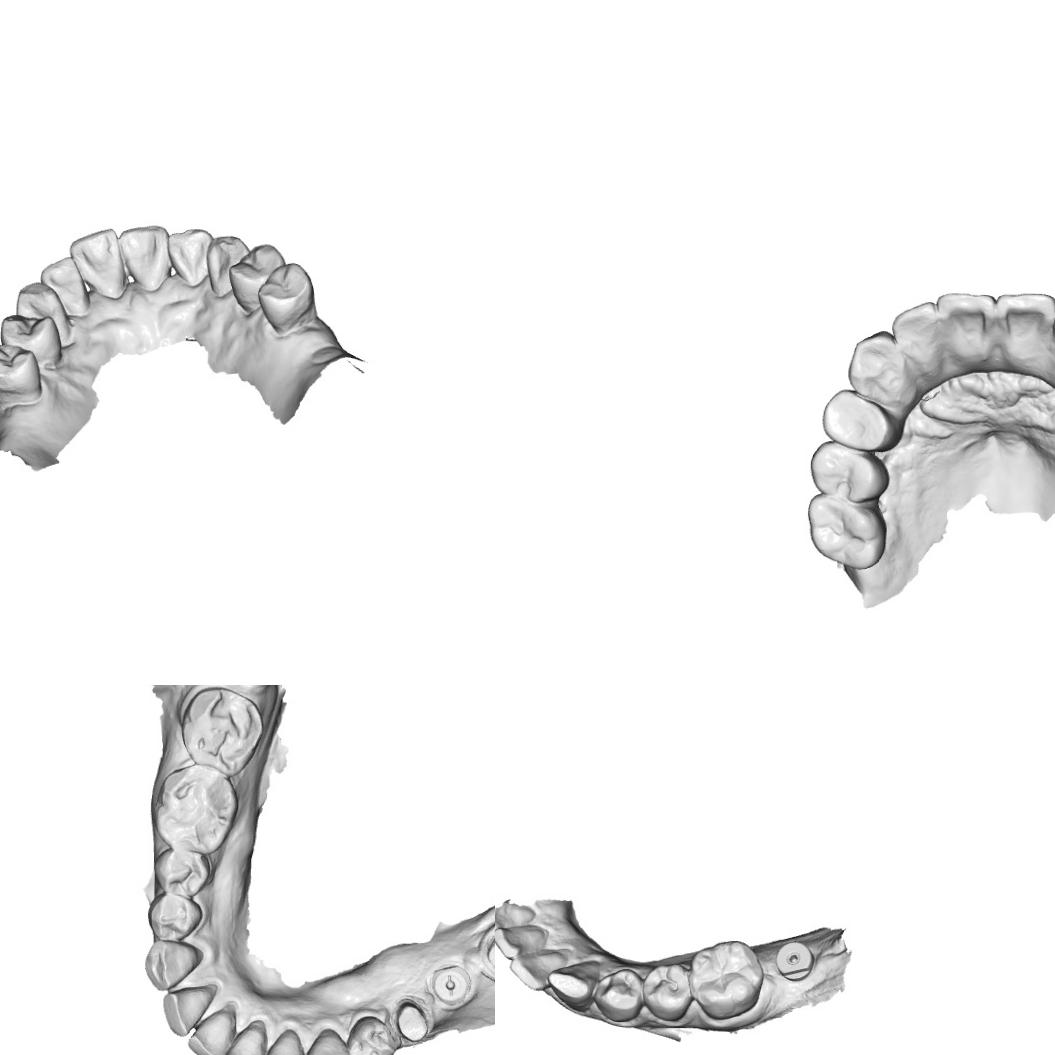canine: (846, 330, 903, 406), (14, 280, 73, 340), (141, 937, 203, 992), (204, 232, 250, 298), (546, 958, 600, 1012), (305, 1025, 352, 1055)
crown: (392, 996, 433, 1044)
implant: (774, 940, 814, 982)
implant_minus: (430, 962, 472, 1006)
incisor: (65, 225, 130, 301), (938, 292, 1001, 356), (115, 222, 170, 291), (992, 292, 1055, 352), (37, 254, 93, 318), (891, 302, 946, 367), (164, 227, 213, 288), (162, 987, 215, 1038), (508, 950, 569, 992), (185, 1005, 236, 1055), (495, 923, 549, 960), (218, 1020, 270, 1055), (495, 901, 536, 933), (261, 1027, 306, 1055)
molar: (177, 685, 266, 773), (152, 765, 236, 856), (687, 938, 766, 1021), (805, 494, 890, 568)
premolar: (812, 442, 886, 506), (816, 388, 890, 452), (255, 260, 317, 334), (226, 241, 285, 315), (0, 311, 63, 366), (592, 966, 645, 1024), (642, 962, 692, 1023), (150, 848, 208, 898), (0, 340, 45, 404), (147, 894, 203, 942), (344, 1014, 402, 1055)
